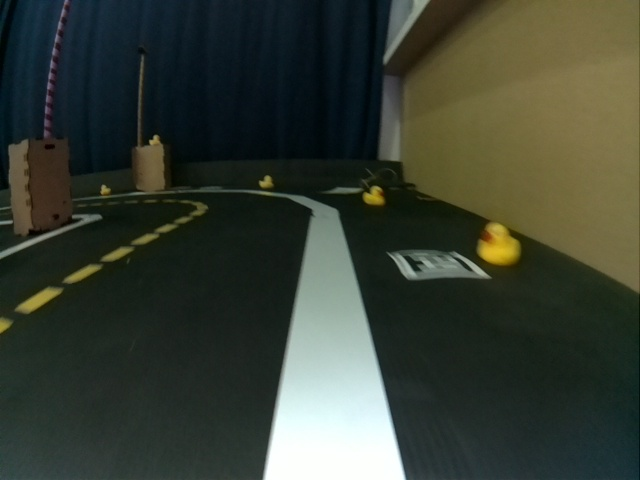Duckie: (477, 223, 519, 264), (363, 186, 383, 205), (258, 175, 270, 187), (150, 135, 159, 144), (100, 184, 109, 193)
QR code: (388, 251, 490, 280)
